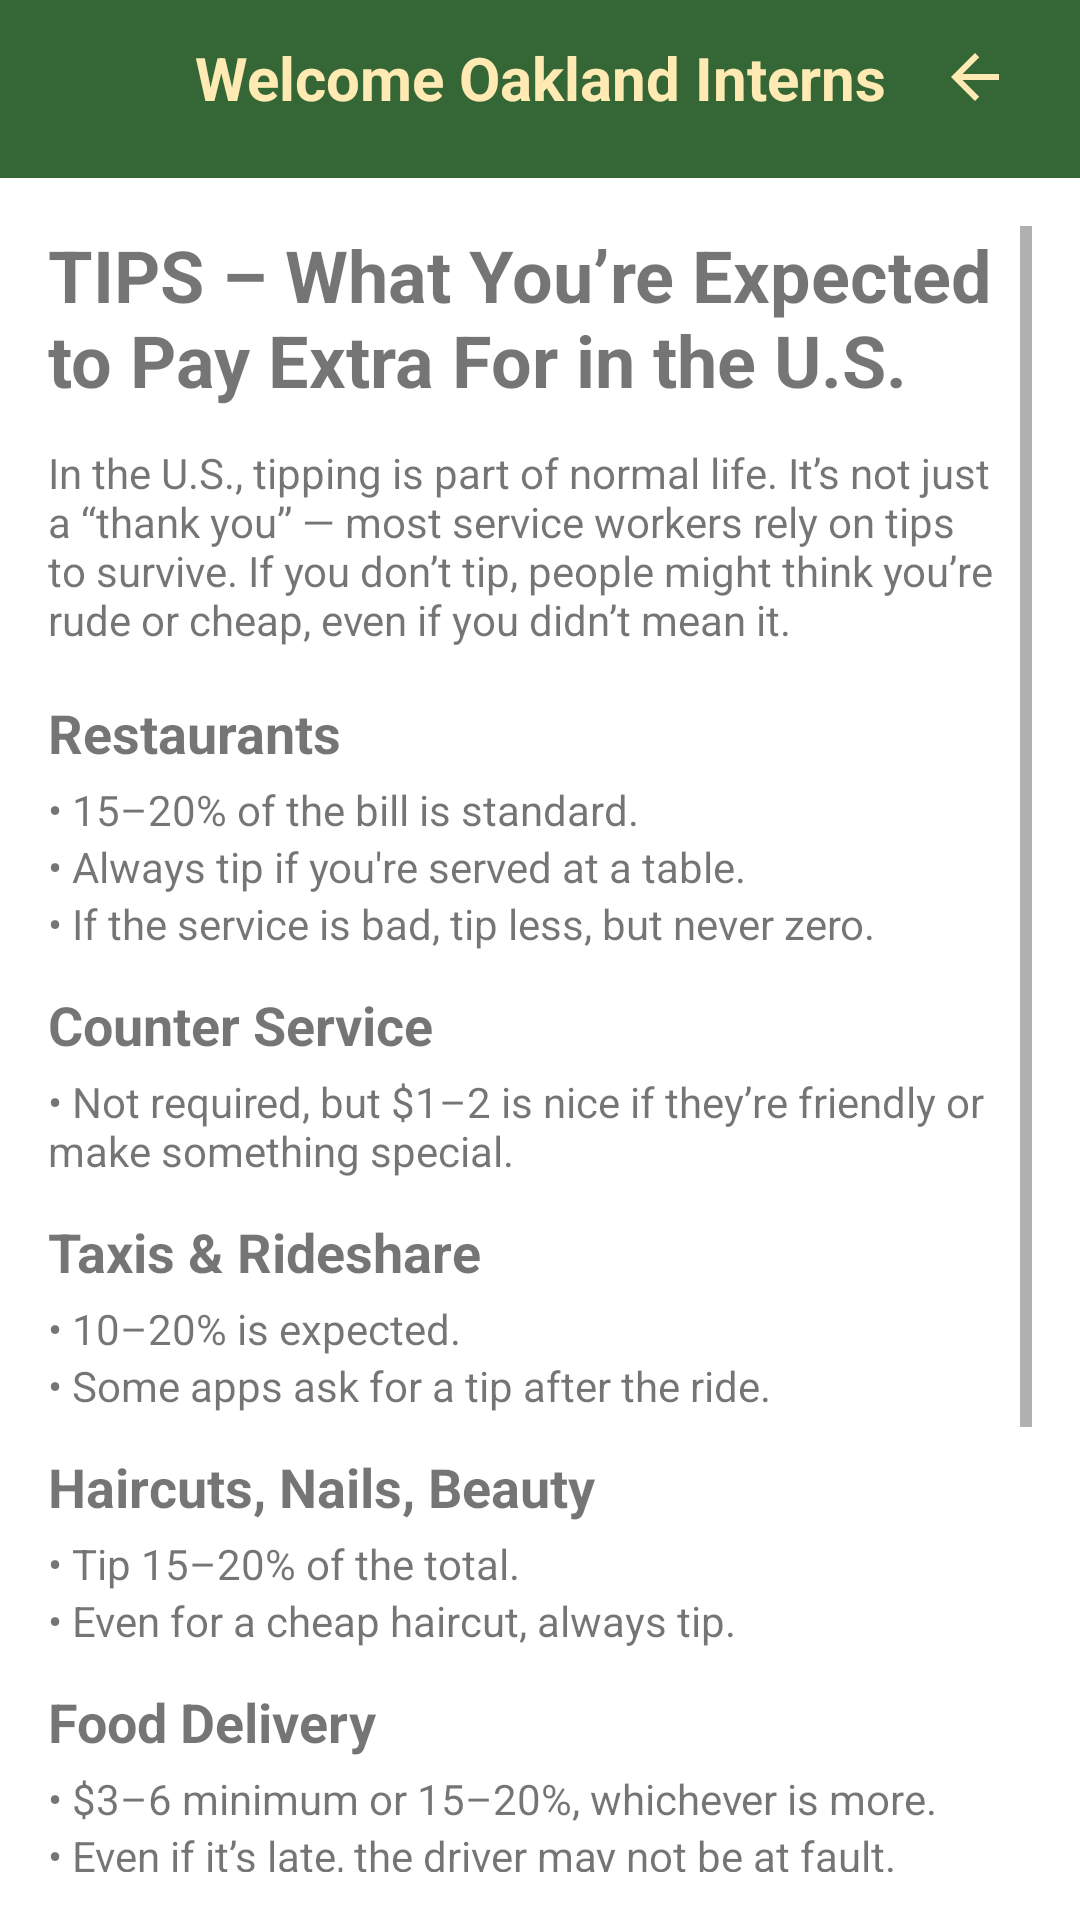

Icons on this 1080 x 1920 Android screen, each with the point to tap as (x=x, y=y):
back: (x=975, y=77)
